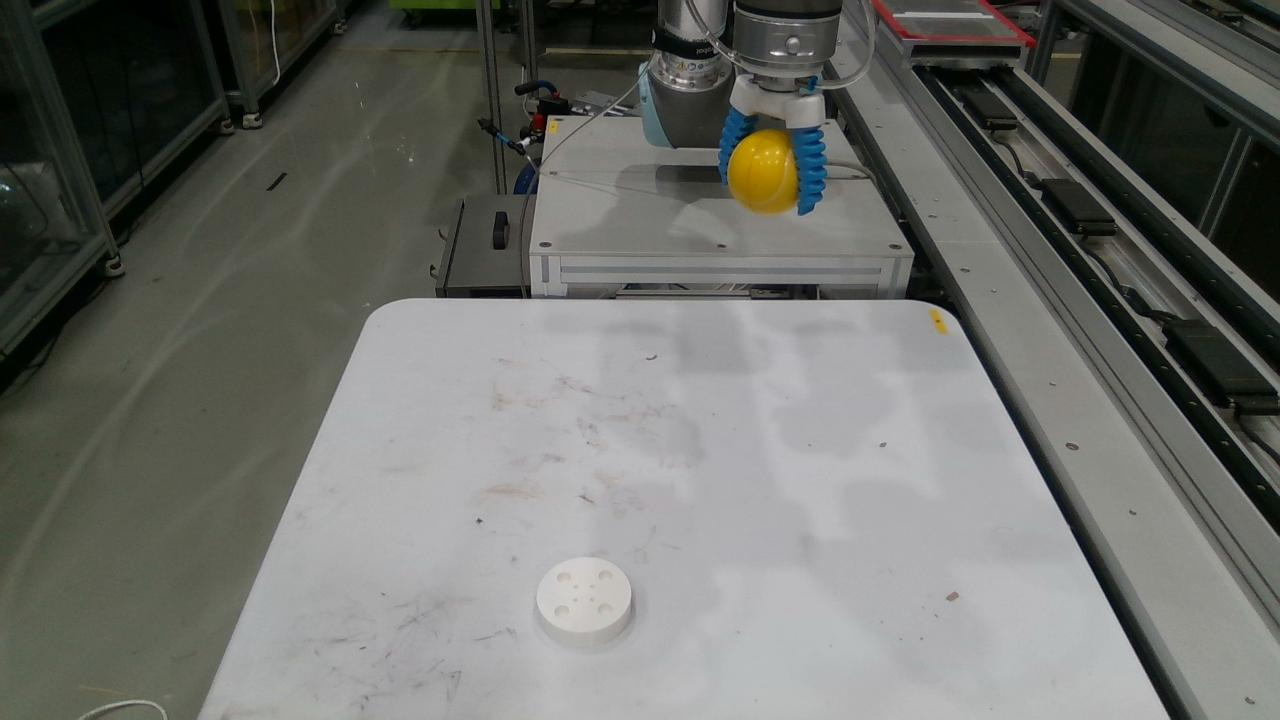UR5: (638, 0, 841, 147)
gripper_left: (717, 106, 757, 185)
gripper_right: (790, 126, 827, 217)
target: (535, 557, 634, 649), (727, 129, 798, 215)
